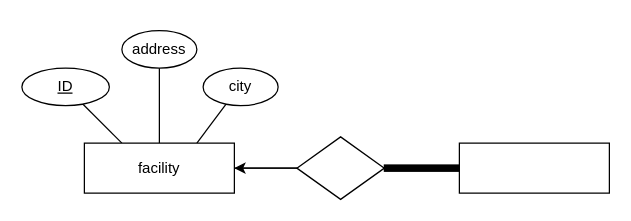
The diagram is 631 pixels wide and 221 high, and some of its shapes have lost their labels. Each missing label, with the centre of its shape:
"Employee" belongs at (533,167).
"manages" belongs at (340,167).
